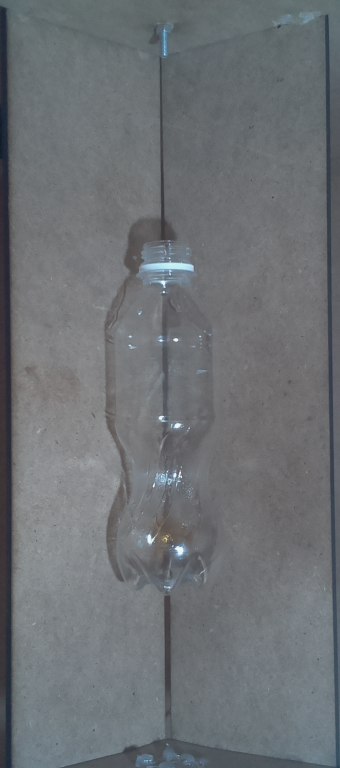Bouteille_0.3L: (100, 225, 232, 602)
